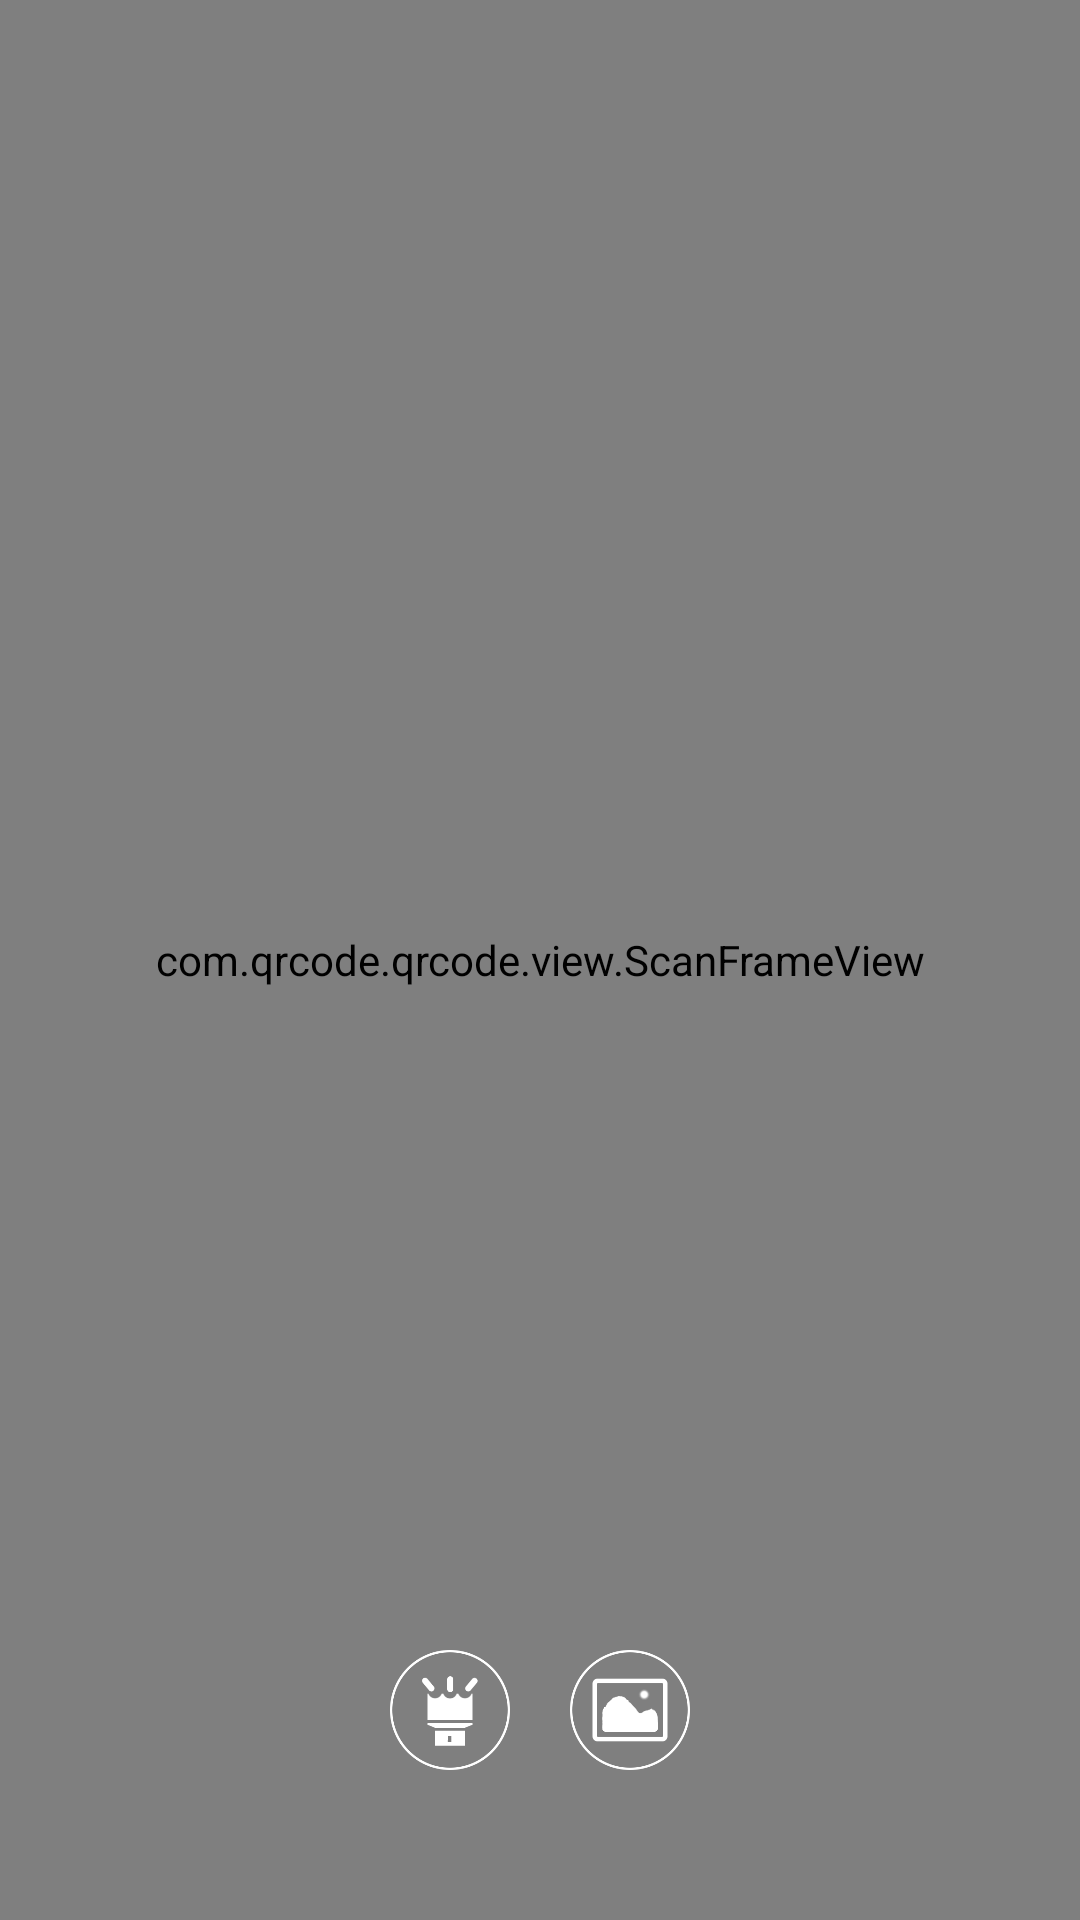

Icons on this 1080 x 1920 Android screen, each with its box as [x1, y1, x2, y2]:
select: [570, 1650, 690, 1770]
